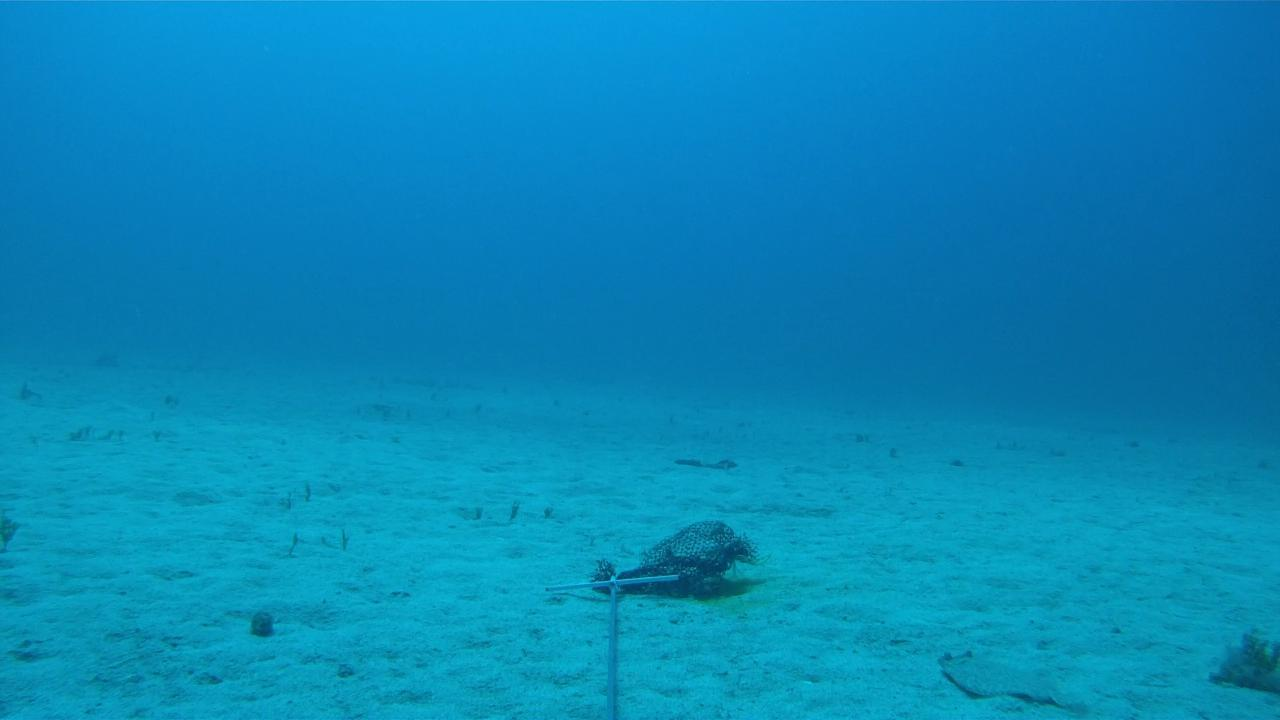bothus: (932, 646, 1089, 709)
